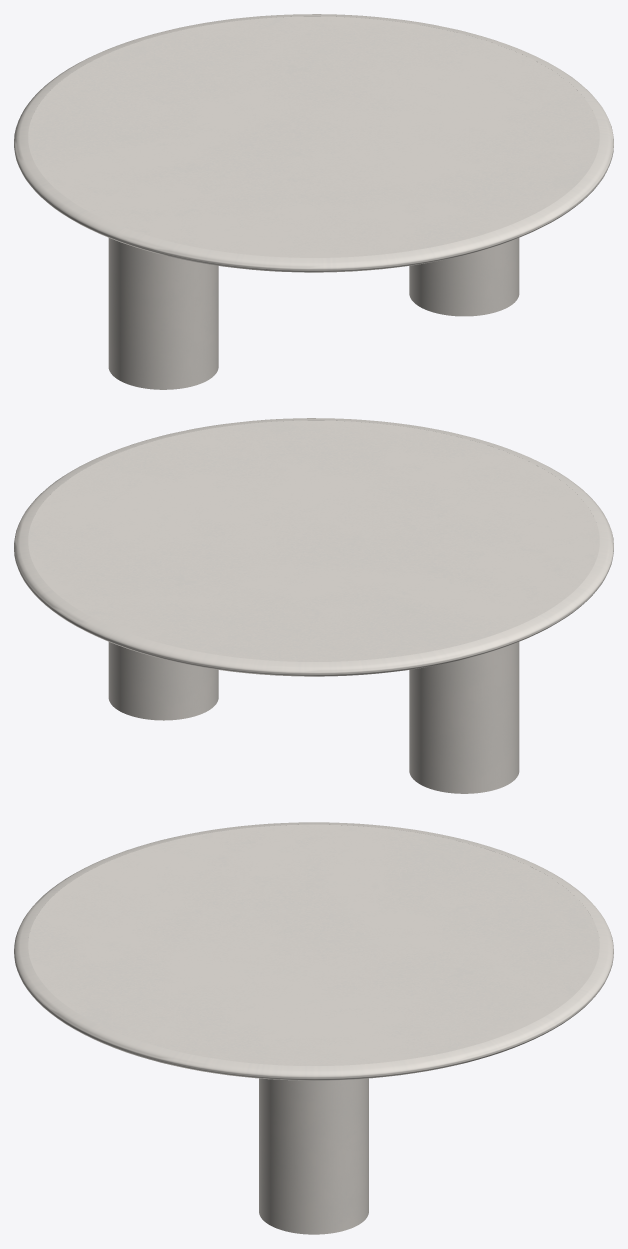
File: pearlwhite_round_round_stream.glb
3 renders of one model, top to bottom at view 1: azimuth 30°, elevation 25°; view 2: azimuth 150°, elevation 25°; view 3: azimuth 270°, elevation 25°, orthographic.
Visible parts, largest first — view 1: round_round, stream; view 2: round_round, stream; view 3: round_round, stream.
Boxes of the visible parts, left/top/right/bottom form: round_round: left=14, top=14, right=613, bottom=272; stream: left=108, top=238, right=519, bottom=389; round_round: left=14, top=418, right=613, bottom=676; stream: left=108, top=642, right=519, bottom=793; round_round: left=14, top=822, right=613, bottom=1080; stream: left=259, top=1078, right=368, bottom=1234.
Size of the model in its own units: 7.09 by 2.51 by 7.09.
1 material, 1 textured.
